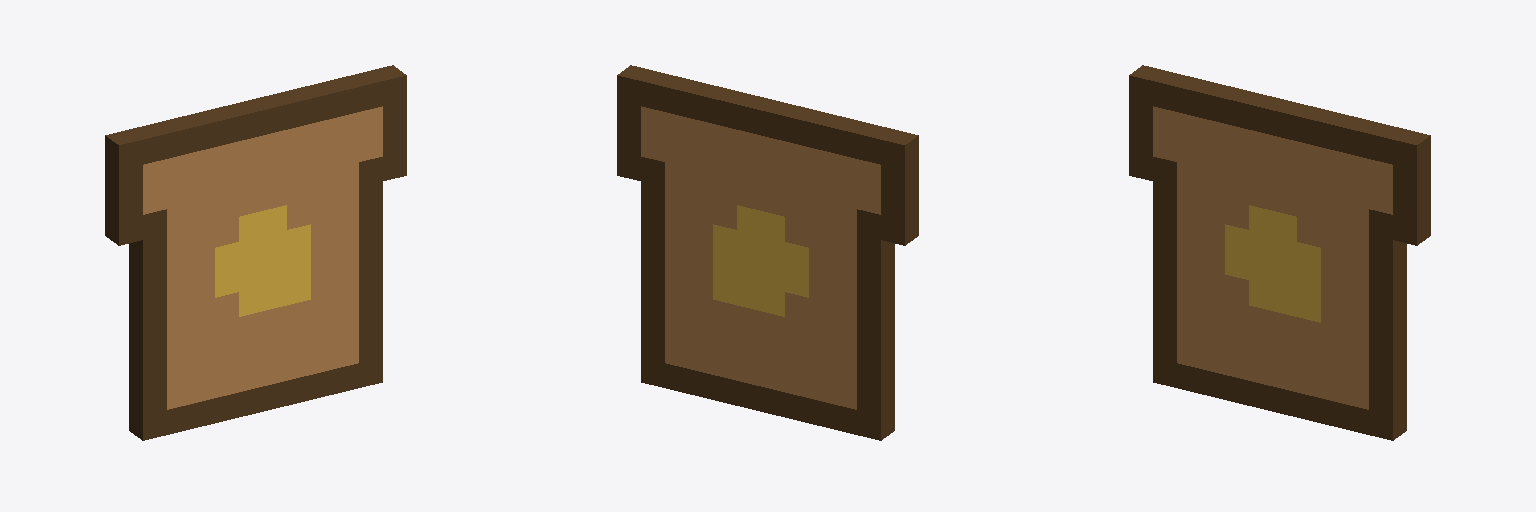
The picture shows the model from 3 angles: view 1: azimuth 30°, elevation 25°; view 2: azimuth 150°, elevation 25°; view 3: azimuth 330°, elevation 25°; orthographic projection.
Parts seen in each view (by area): view 1: object 1; view 2: object 1; view 3: object 1.
Boxes of the visible parts, x1,y1,x2,y2 form: object 1: [105, 65, 406, 440]; object 1: [617, 65, 918, 440]; object 1: [1129, 65, 1430, 440].
Size of the model in its own units: 1.2 by 1.2 by 0.1.
1 materials, 1 textured.